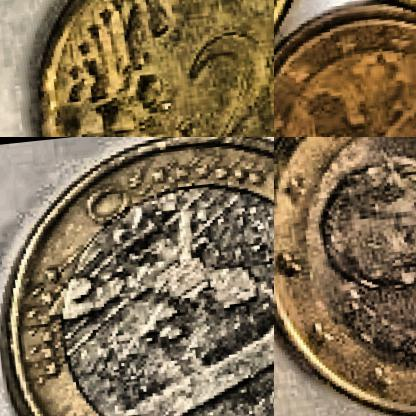coin: (0, 137, 273, 415), (274, 137, 415, 415), (21, 0, 273, 136), (274, 0, 415, 136)
